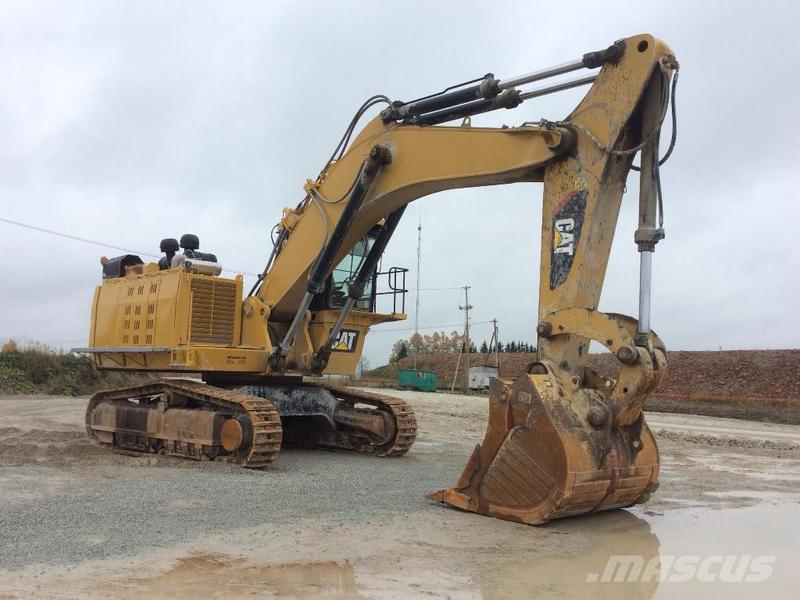shovel: (74, 26, 685, 530)
